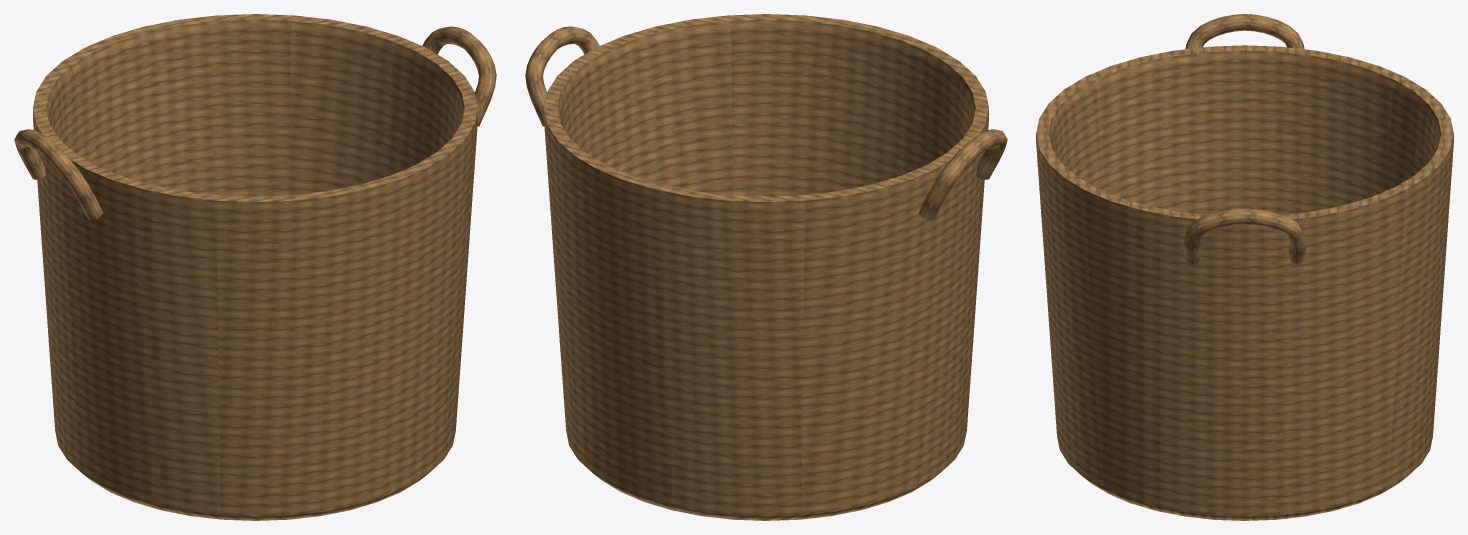
Rendered from ap_basket.fbx.
3 renders of one model, left to right at view 1: azimuth 30°, elevation 25°; view 2: azimuth 150°, elevation 25°; view 3: azimuth 270°, elevation 25°, orthographic. The views are drawn at different scales.
Visible parts, largest first — view 1: ap_basket; view 2: ap_basket; view 3: ap_basket.
Boxes of the visible parts, box(x1,y1,x2,y2) form: ap_basket: box(14, 14, 496, 520); ap_basket: box(525, 14, 1007, 520); ap_basket: box(1036, 14, 1453, 520).
Size of the model in its own units: 0.455 by 0.3525 by 0.4.
1 material, 1 textured.
